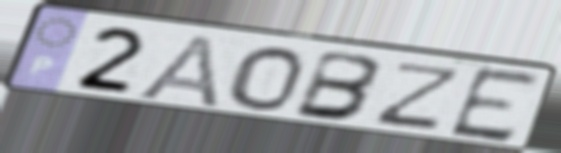2: (73, 26, 151, 98)
A: (129, 32, 222, 111)
B: (289, 47, 387, 123)
E: (444, 64, 546, 146)
O: (225, 44, 307, 113)
Z: (369, 60, 468, 132)
